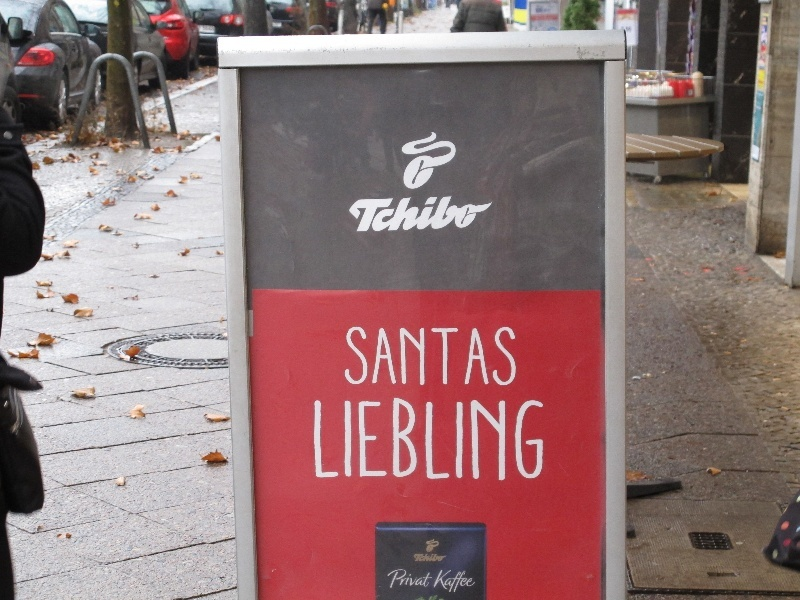text: (321, 396, 336, 482), (337, 396, 352, 482), (353, 396, 368, 482), (369, 396, 384, 482), (385, 396, 400, 482), (401, 396, 416, 482), (417, 396, 432, 482), (433, 396, 448, 482), (449, 396, 464, 482), (465, 396, 480, 482), (481, 396, 496, 482), (497, 396, 512, 482), (513, 396, 528, 482), (529, 396, 544, 482), (353, 326, 368, 386), (369, 326, 384, 386), (385, 326, 400, 386), (401, 326, 416, 386), (417, 326, 432, 386), (433, 326, 448, 386), (449, 326, 464, 386), (465, 326, 480, 386), (481, 326, 496, 386), (497, 326, 512, 386), (353, 195, 368, 233), (369, 195, 384, 233), (385, 195, 400, 233), (401, 195, 416, 233), (417, 195, 432, 233), (433, 195, 448, 233), (449, 195, 464, 233), (465, 195, 480, 233), (481, 195, 495, 233), (314, 396, 320, 482), (345, 326, 352, 386), (449, 570, 464, 593), (401, 568, 416, 590), (417, 568, 432, 590), (465, 570, 478, 593), (388, 568, 400, 590), (513, 326, 517, 386), (441, 570, 448, 593), (417, 554, 432, 562), (349, 195, 352, 233), (433, 554, 447, 562), (536, 5, 544, 13), (545, 5, 553, 13), (625, 26, 633, 32), (433, 568, 434, 590), (621, 26, 624, 32), (415, 554, 416, 562)
